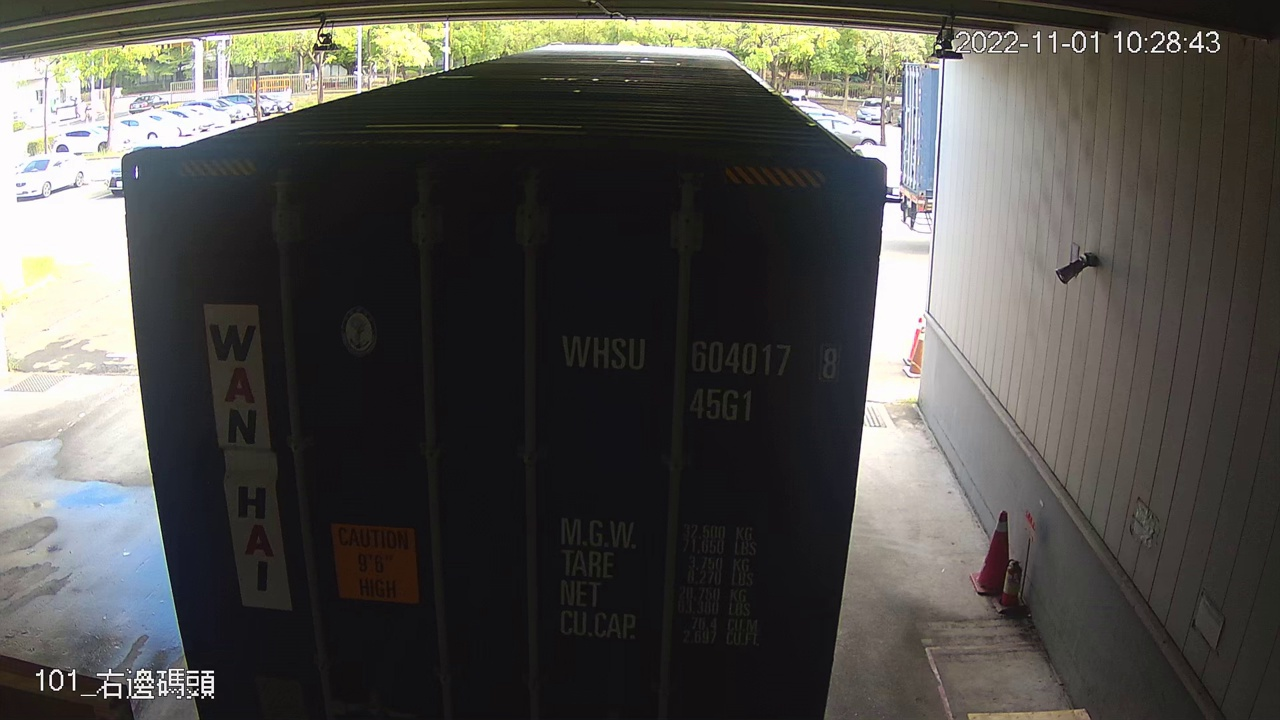container: (553, 319, 850, 427)
